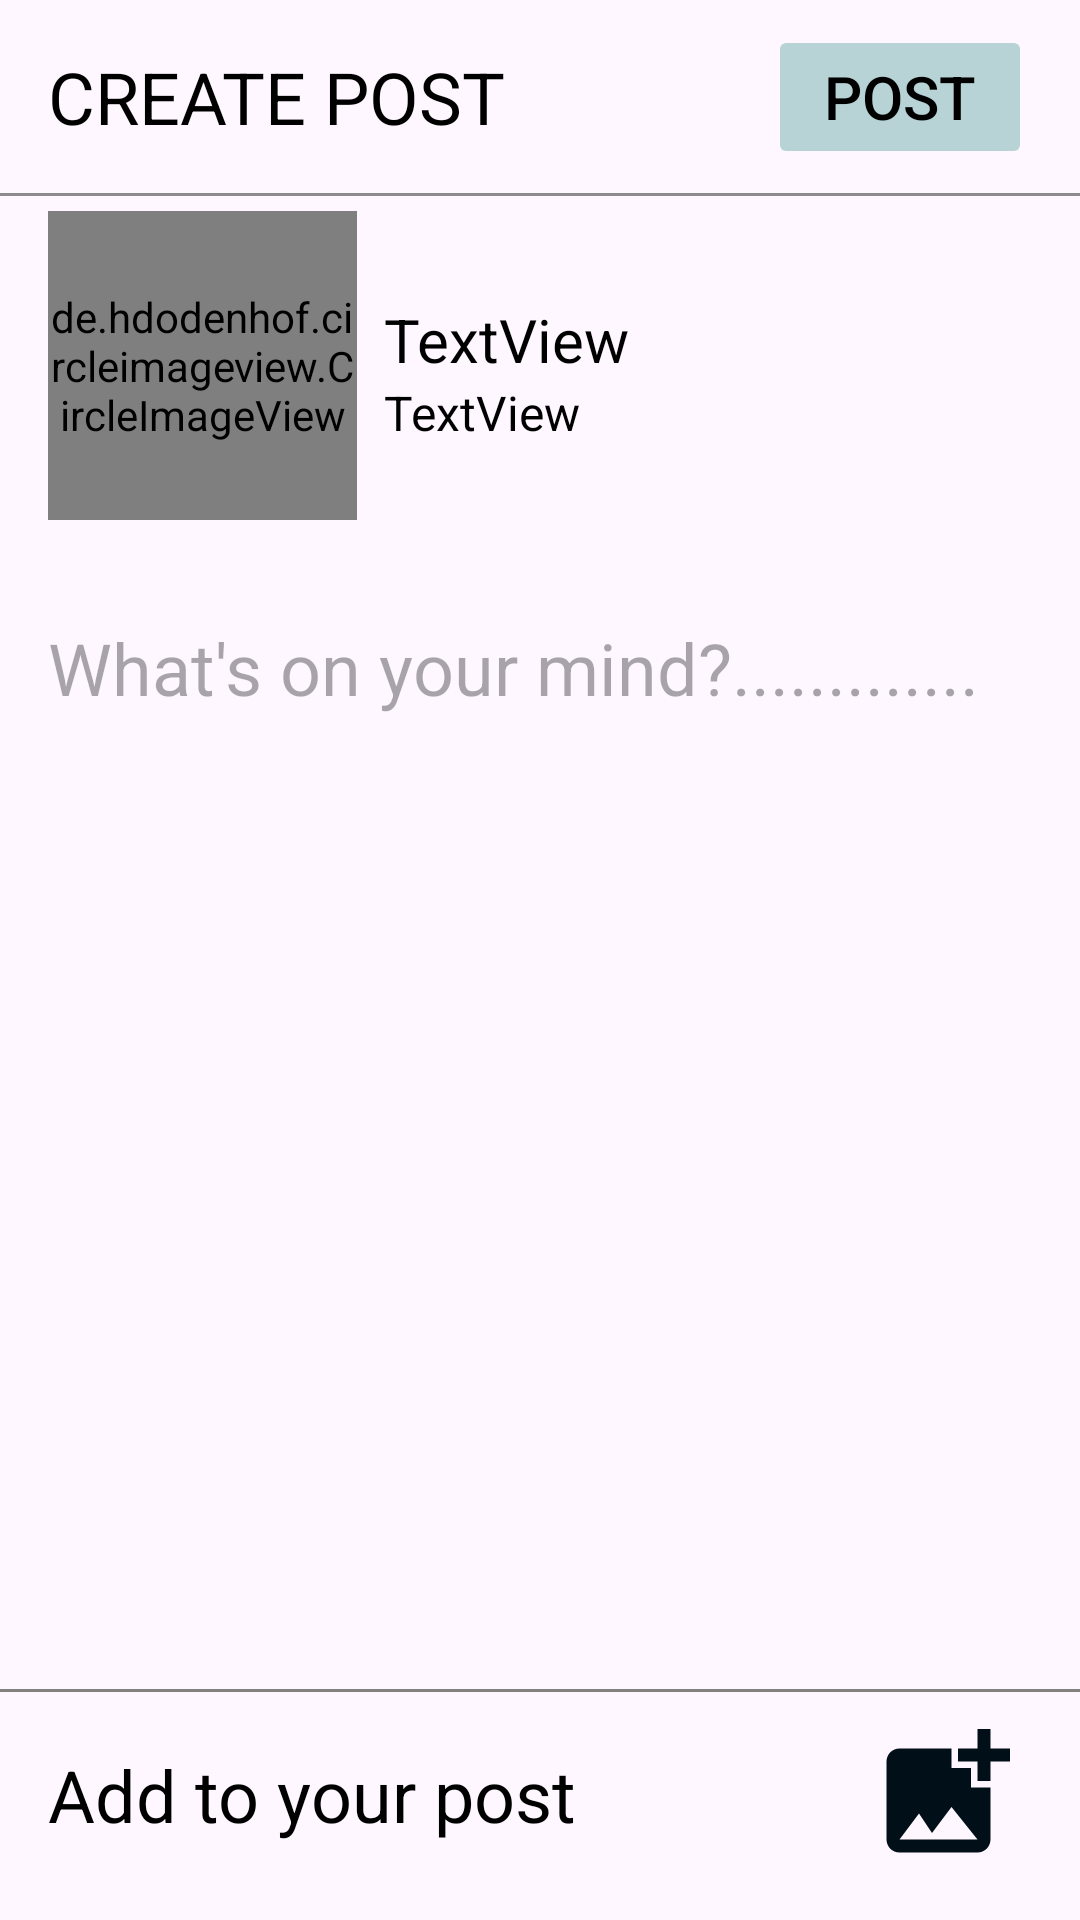

Icons on this 1080 x 1920 Android screen, each with its box as (x1, y1, x2, y2):
add photo alternate: (886, 1729, 1010, 1853)
